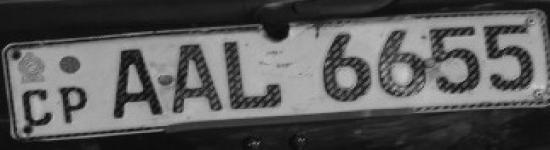5: (483, 22, 540, 94), (430, 24, 483, 96)
6: (309, 28, 376, 106), (374, 26, 430, 100)
A: (96, 43, 168, 122), (170, 39, 224, 114)
C: (20, 87, 55, 130)
L: (224, 37, 288, 113)
P: (56, 83, 88, 126)
